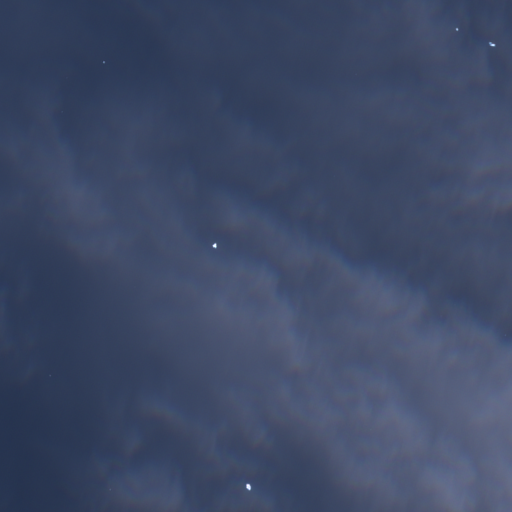Iceberg: (246, 483, 250, 490), (489, 42, 495, 46), (212, 242, 216, 248), (455, 28, 458, 30), (103, 61, 104, 63)
